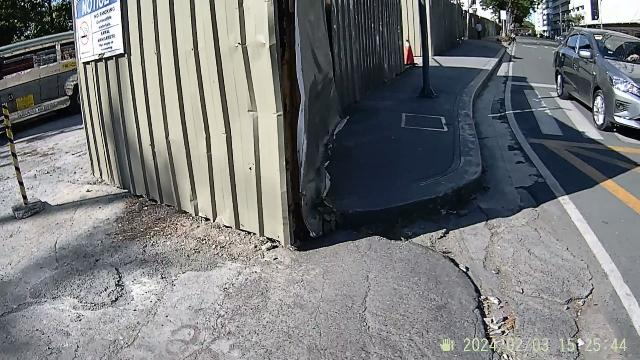car: (550, 24, 640, 132)
